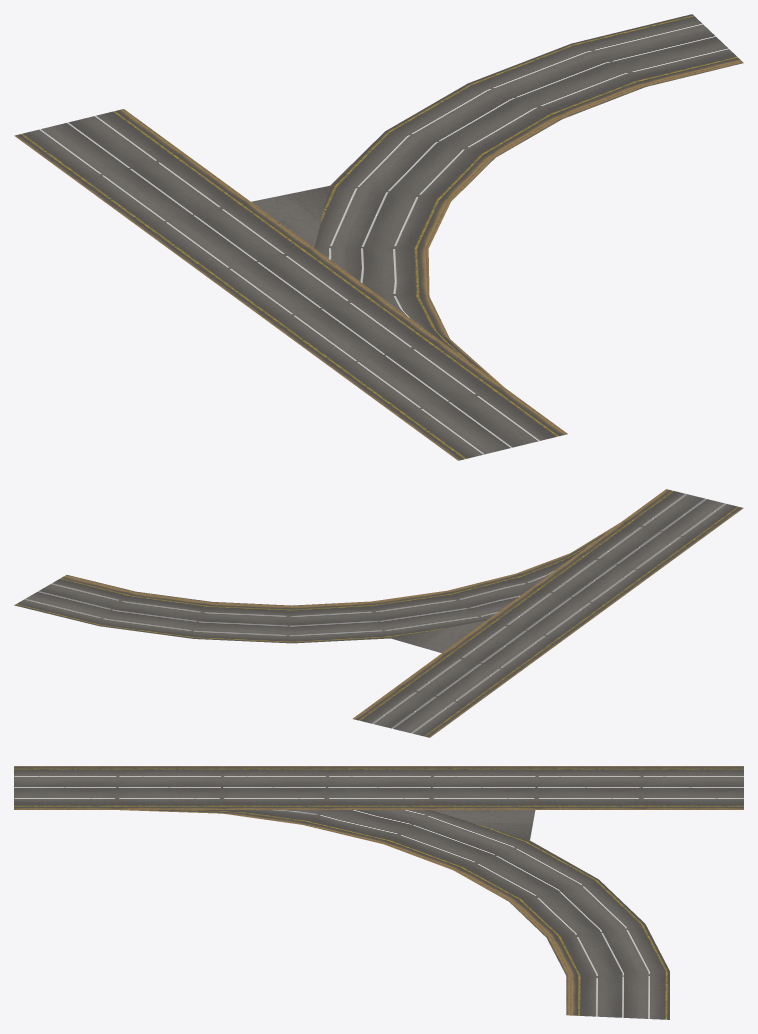
The model's file is road-branch-1.fbx.
3 renders of one model, top to bottom at view 1: azimuth 30°, elevation 25°; view 2: azimuth 150°, elevation 25°; view 3: azimuth 270°, elevation 25°, orthographic. The views are drawn at different scales.
Parts seen in each view (by area): view 1: RoadBranch-1; view 2: RoadBranch-1; view 3: RoadBranch-1.
Part boxes in pixels (<box>): RoadBranch-1: <box>14,14,743,460</box>; RoadBranch-1: <box>14,489,743,737</box>; RoadBranch-1: <box>14,766,743,1019</box>.
Size of the model in its own units: 46.09 by 6.23e-06 by 56.
